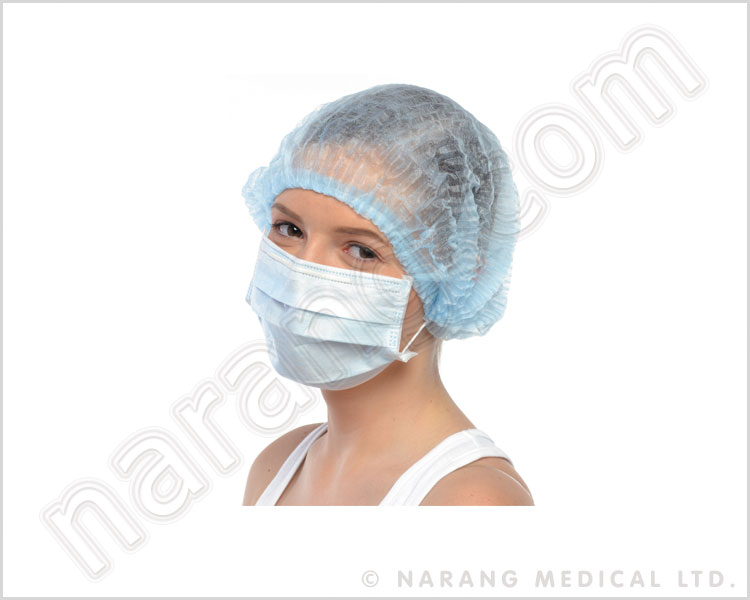with_mask_and_cap: (243, 90, 449, 394)
